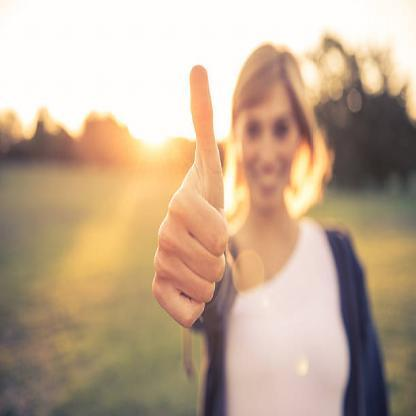thumb_up: (147, 62, 232, 332)
